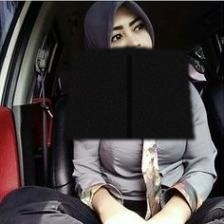Cadar_Niqab: (64, 0, 194, 139)
